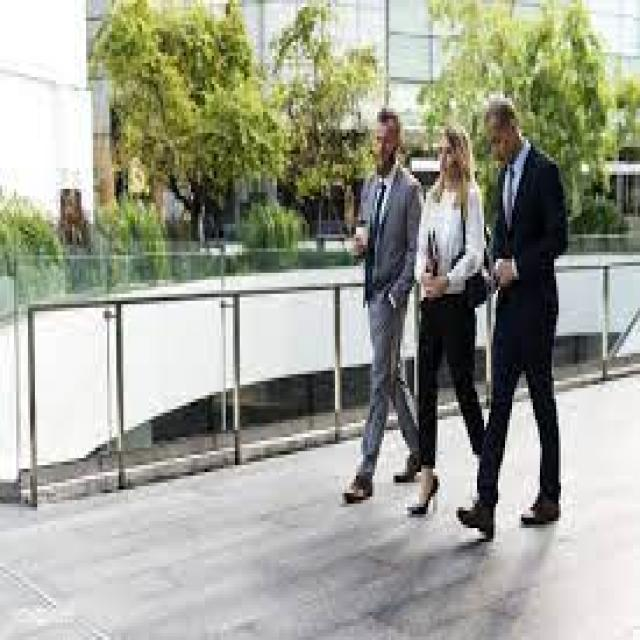Person: (456, 98, 568, 540), (341, 108, 431, 504), (408, 122, 487, 514)
